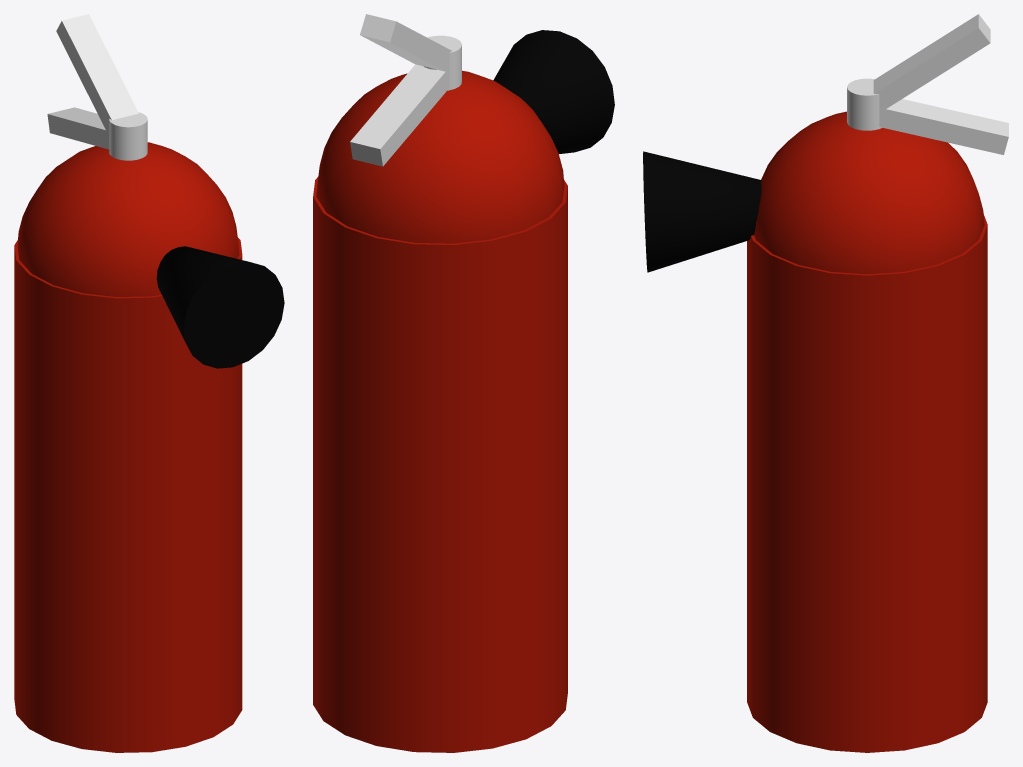
Rendered from Fire Extinguisher.fbx.
3 views of the same model, side by side, from view 1: azimuth 30°, elevation 25°; view 2: azimuth 150°, elevation 25°; view 3: azimuth 270°, elevation 25° (orthographic). The views are drawn at different scales.
Visible parts, largest first — view 1: pCone1; view 2: pCone1; view 3: pCone1.
Boxes of the visible parts, x1,y1,x2,y2 form: pCone1: [14, 14, 284, 752]; pCone1: [313, 14, 614, 752]; pCone1: [643, 14, 1008, 752].
Size of the model in its own units: 0.5853 by 1.83 by 0.8893.
